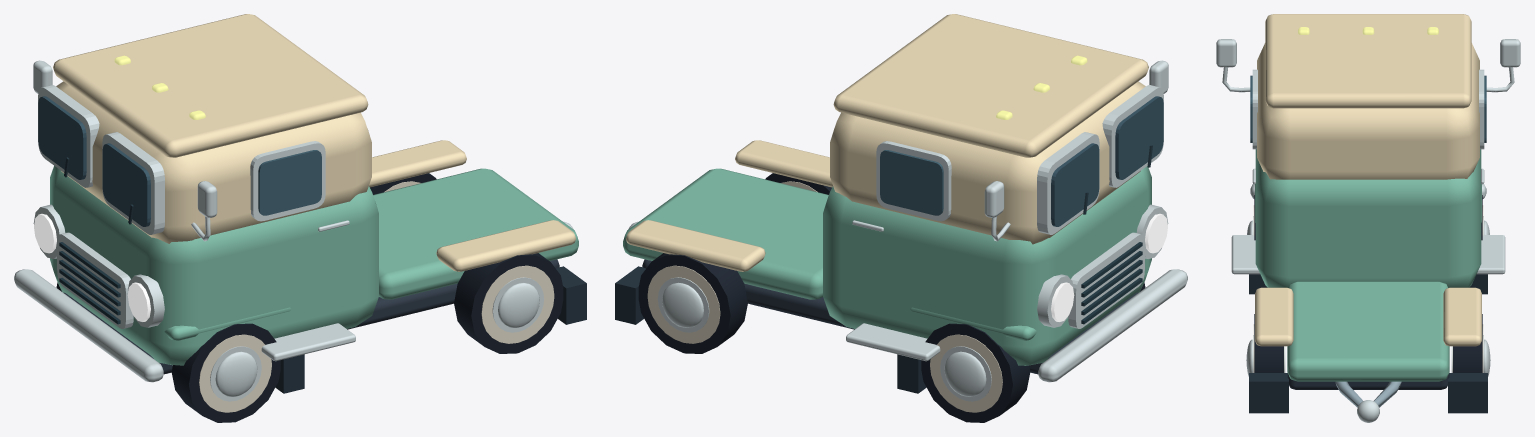
File: truck-map.glb
3 views of the same model, side by side, from view 1: azimuth 30°, elevation 25°; view 2: azimuth 150°, elevation 25°; view 3: azimuth 270°, elevation 25° (orthographic). The views are drawn at different scales.
Parts seen in each view (by area): view 1: pressed-panels, whitewall (×3); view 2: pressed-panels, whitewall (×3); view 3: pressed-panels, whitewall (×2).
Part boxes in pixels (<box>): pressed-panels: <box>14,14,586,393</box>; whitewall (×3): <box>171,173,563,422</box>; pressed-panels: <box>615,14,1187,393</box>; whitewall (×3): <box>638,173,1030,422</box>; pressed-panels: <box>1216,14,1520,422</box>; whitewall (×2): <box>1246,314,1490,376</box>.
Size of the model in its own units: 3.81 by 2.15 by 2.36.
